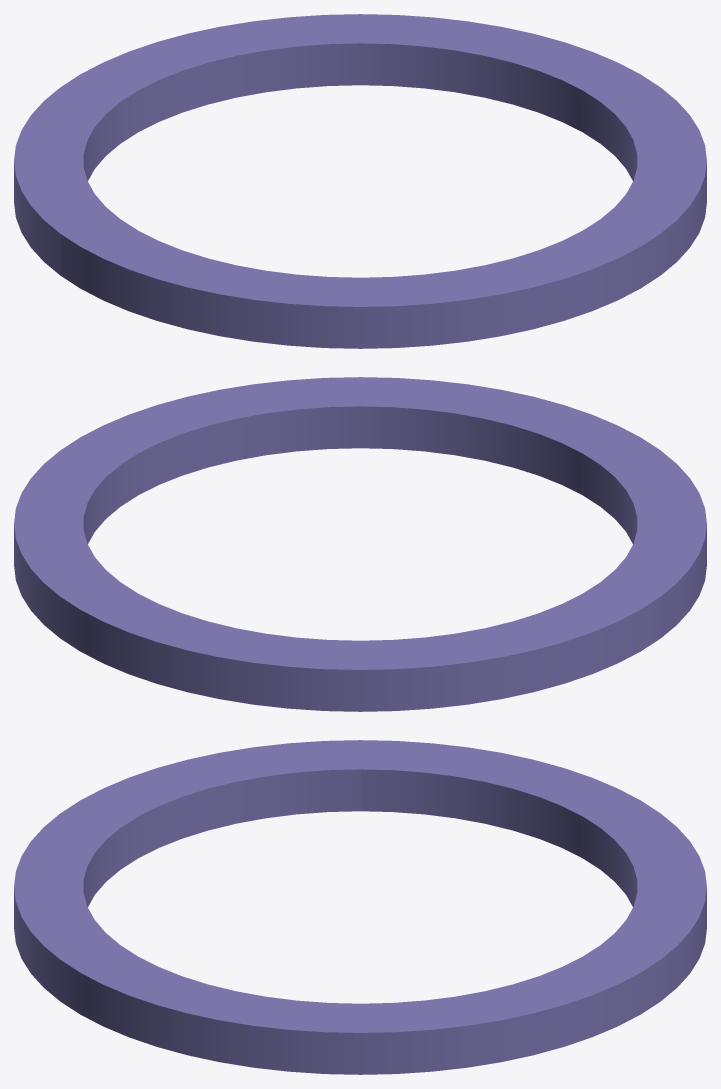
The picture shows the model from 3 angles, top to bottom: view 1: azimuth 30°, elevation 25°; view 2: azimuth 150°, elevation 25°; view 3: azimuth 270°, elevation 25°; orthographic projection.
Visible parts, largest first — view 1: Circle; view 2: Circle; view 3: Circle.
Part boxes in pixels (x1=…): Circle: x1=14, y1=14, x2=706, y2=348; Circle: x1=14, y1=377, x2=706, y2=711; Circle: x1=14, y1=740, x2=706, y2=1074.
Size of the model in its own units: 0.03 by 0.03 by 0.002.
